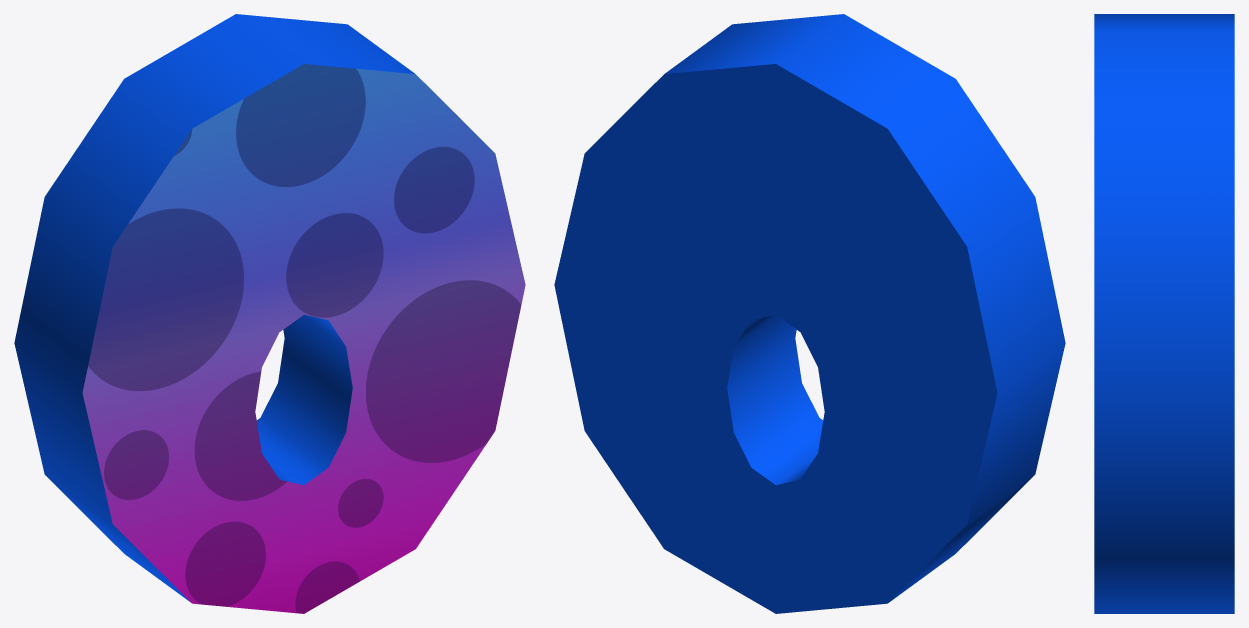
3 views of the same model, side by side, from view 1: azimuth 30°, elevation 25°; view 2: azimuth 150°, elevation 25°; view 3: azimuth 270°, elevation 25° (orthographic). The views are drawn at different scales.
Visible parts, largest first — view 1: O; view 2: O; view 3: O.
Part boxes in pixels (left/top/right/bottom): O: left=14, top=14, right=525, bottom=613; O: left=554, top=14, right=1065, bottom=613; O: left=1094, top=14, right=1234, bottom=613.
Size of the model in its own units: 75.07 by 89.06 by 20.
2 materials, 1 textured.
